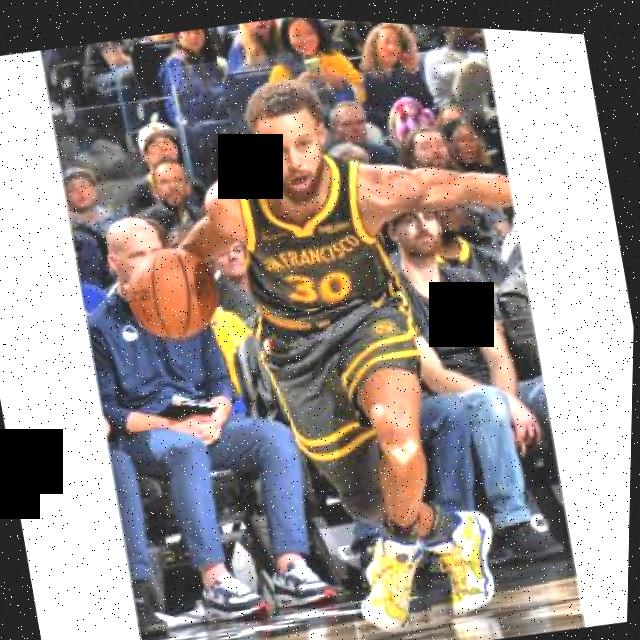shoe: (350, 516, 440, 632), (424, 497, 509, 617), (195, 558, 271, 628), (268, 545, 341, 609)
